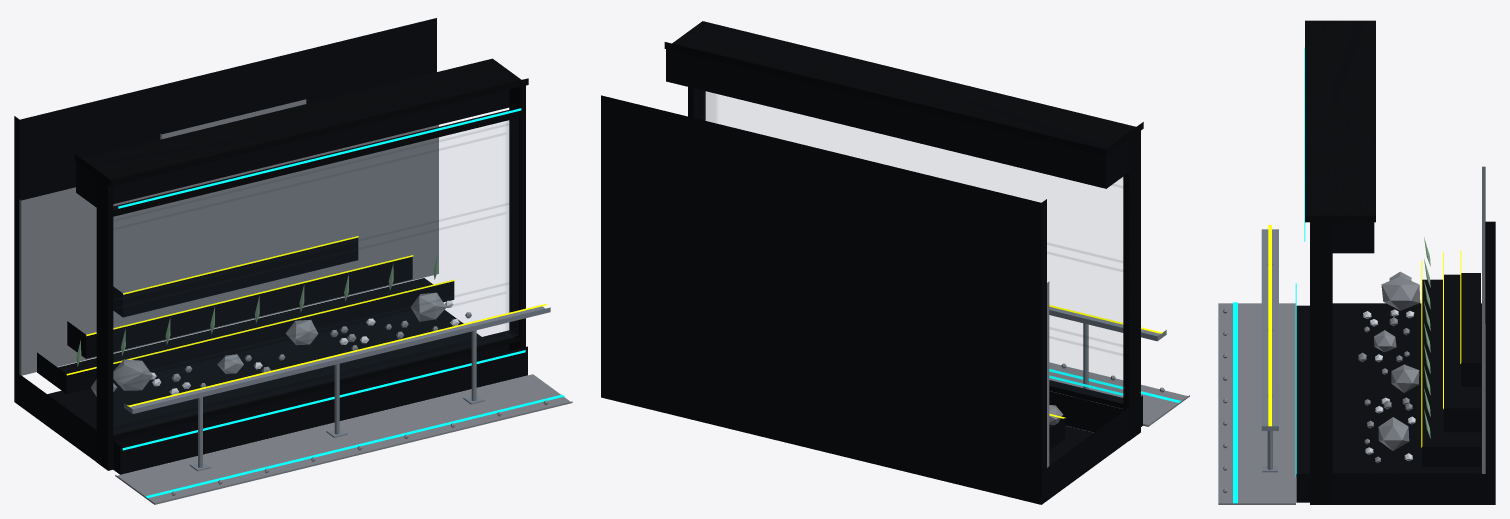
File: v3_river_tank.glb
3 renders of one model, left to right at view 1: azimuth 30°, elevation 25°; view 2: azimuth 150°, elevation 25°; view 3: azimuth 270°, elevation 25°, orthographic. The views are drawn at different scales.
Parts seen in each view (by area): view 1: Tank_Shell, Reef_Backdrop, Acrylic_Frame, River_Tiers, Terrazzo_Strip, Sill_Nosing, Glass_Acrylic, Lean_Rail, Reef_Rocks, River_Seams, Cyan_Inlay, Header_Light (+4 smaller); view 2: Tank_Shell, Acrylic_Frame, Terrazzo_Strip, Sill_Nosing, Glass_Acrylic, Lean_Rail; view 3: Tank_Shell, Acrylic_Frame, Terrazzo_Strip, River_Tiers, Lean_Rail, Reef_Rocks, Sill_Nosing, Reef_Backdrop, Cyan_Inlay, Rail_Accent, River_Seams, Water_Grass (+3 smaller).
Part boxes in pixels (left/top/right/bottom): Tank_Shell: left=14, top=18, right=514, bottom=461; Reef_Backdrop: left=19, top=99, right=438, bottom=375; Acrylic_Frame: left=74, top=58, right=528, bottom=470; River_Tiers: left=37, top=237, right=454, bottom=393; Terrazzo_Strip: left=115, top=374, right=572, bottom=504; Sill_Nosing: left=113, top=346, right=527, bottom=474; Glass_Acrylic: left=113, top=118, right=518, bottom=389; Lean_Rail: left=124, top=306, right=550, bottom=471; Reef_Rocks: left=91, top=292, right=446, bottom=396; River_Seams: left=66, top=236, right=454, bottom=375; Cyan_Inlay: left=145, top=394, right=564, bottom=497; Header_Light: left=118, top=108, right=521, bottom=208; Tank_Shell: left=601, top=49, right=1128, bottom=504; Acrylic_Frame: left=664, top=21, right=1143, bottom=440; Terrazzo_Strip: left=1049, top=362, right=1189, bottom=426; Sill_Nosing: left=1049, top=391, right=1142, bottom=432; Glass_Acrylic: left=704, top=91, right=1122, bottom=356; Lean_Rail: left=1049, top=306, right=1166, bottom=400; Tank_Shell: left=1332, top=221, right=1495, bottom=504; Acrylic_Frame: left=1305, top=20, right=1375, bottom=504; Terrazzo_Strip: left=1218, top=303, right=1295, bottom=504; River_Tiers: left=1422, top=273, right=1480, bottom=466; Lean_Rail: left=1261, top=229, right=1278, bottom=472; Reef_Rocks: left=1374, top=271, right=1420, bottom=450; Sill_Nosing: left=1296, top=305, right=1309, bottom=502; Reef_Backdrop: left=1482, top=166, right=1485, bottom=473; Cyan_Inlay: left=1233, top=302, right=1237, bottom=503; Rail_Accent: left=1268, top=225, right=1271, bottom=426; River_Seams: left=1421, top=250, right=1461, bottom=447; Water_Grass: left=1424, top=237, right=1430, bottom=438.
Size of what is drawn, in the model's own units: 5.5 by 3.68 by 3.2.
9 materials, 5 textured.
